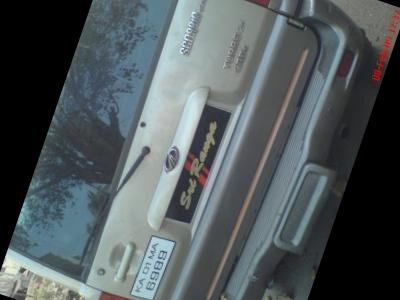plate: (121, 226, 185, 300)
